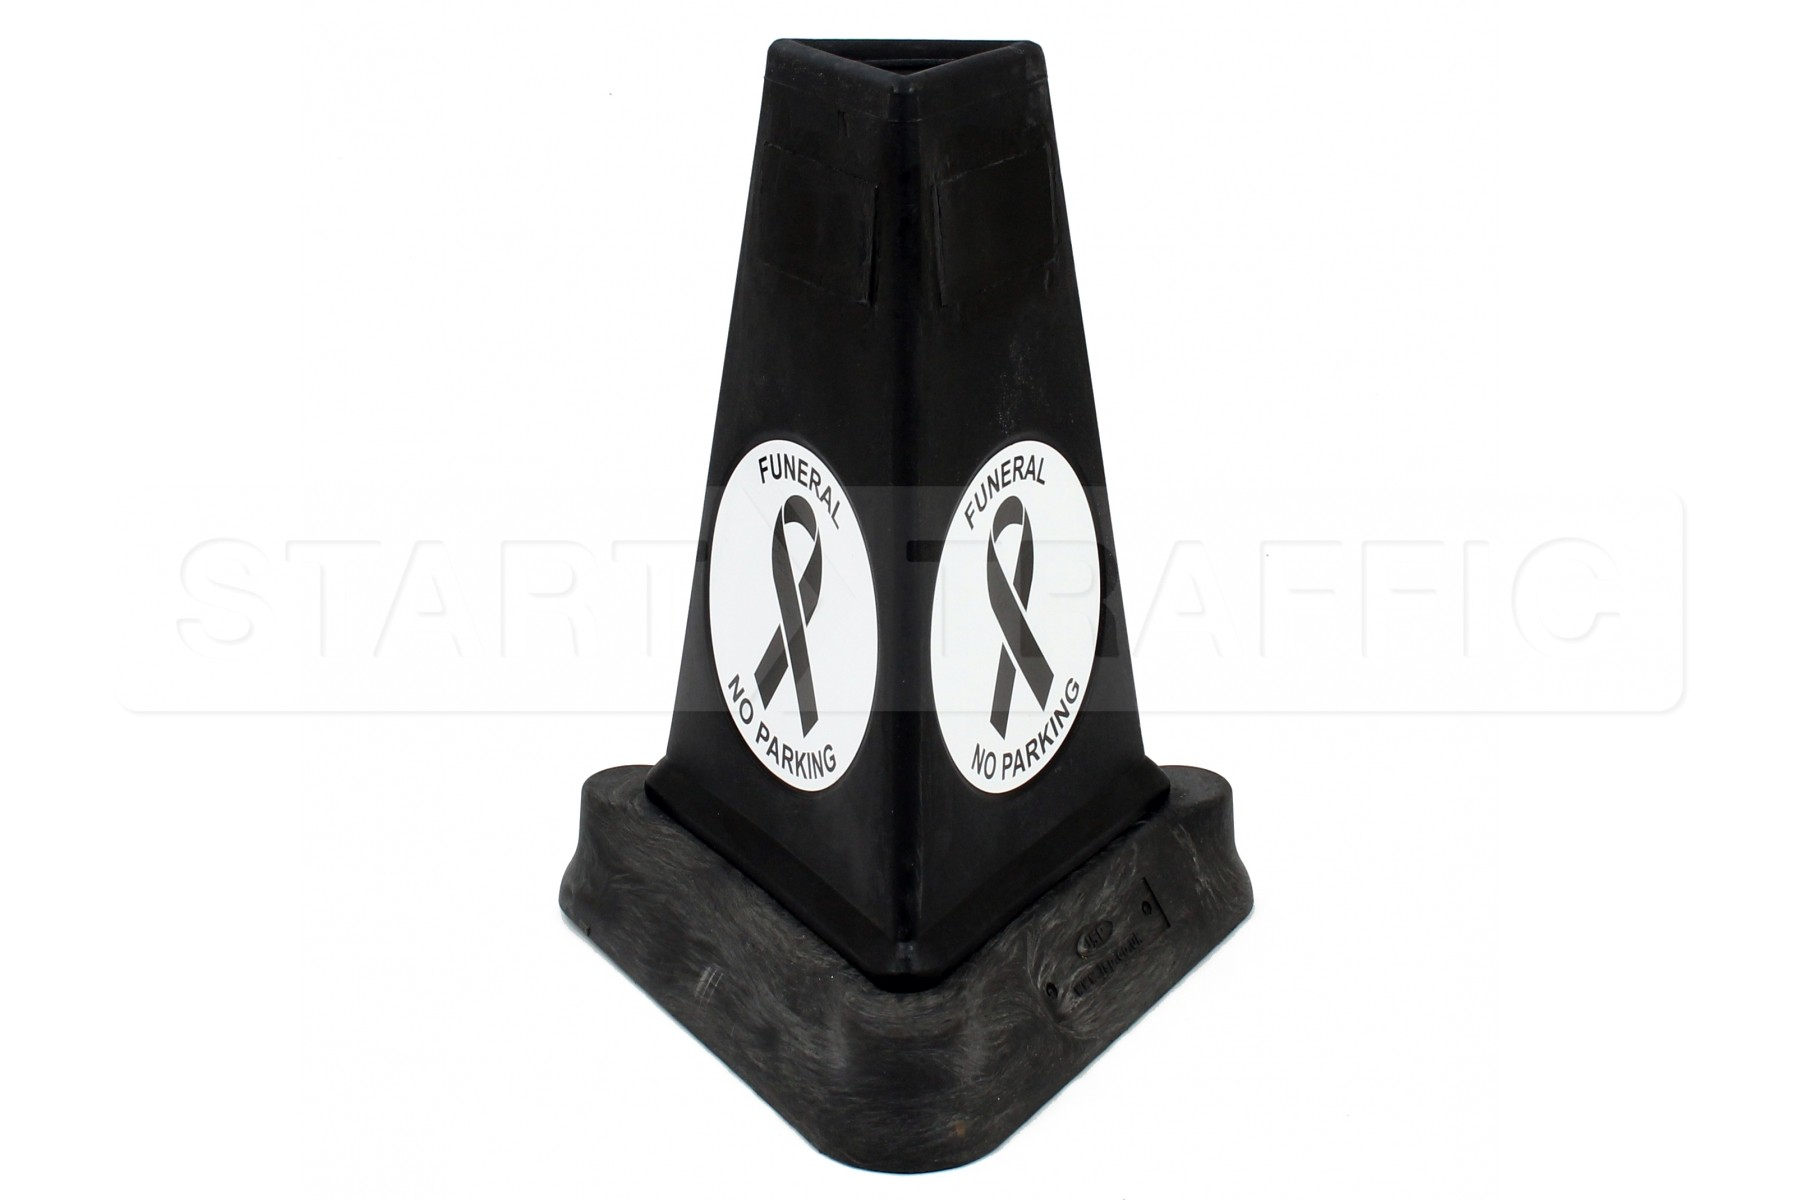blackC: (554, 25, 1317, 1167)
